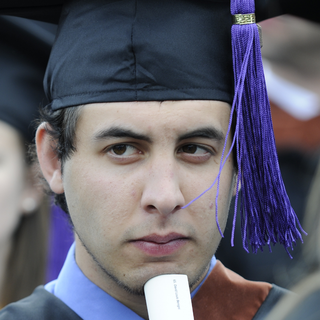eye: (98, 138, 146, 163), (174, 138, 216, 164)
